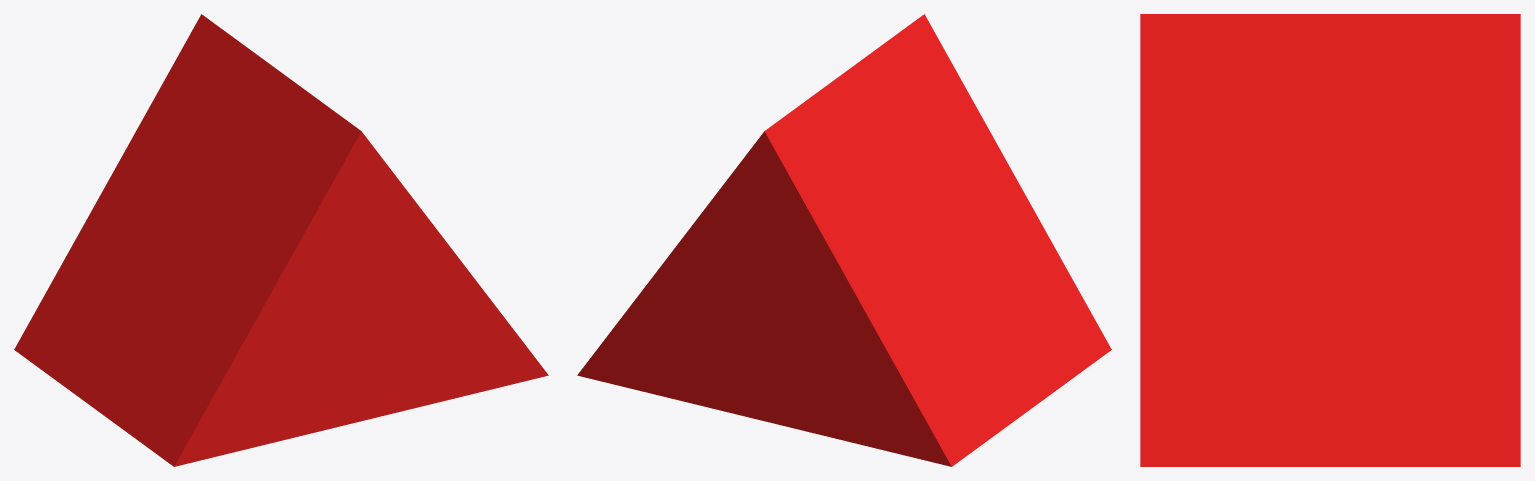
File: KidsBoxC.FBX
3 renders of one model, left to right at view 1: azimuth 30°, elevation 25°; view 2: azimuth 150°, elevation 25°; view 3: azimuth 270°, elevation 25°, orthographic. The views are drawn at different scales.
Parts seen in each view (by area): view 1: KidsBoxC; view 2: KidsBoxC; view 3: KidsBoxC.
Part boxes in pixels (x1,y1,x2,y2): KidsBoxC: (14, 14, 548, 466); KidsBoxC: (577, 14, 1111, 466); KidsBoxC: (1140, 14, 1520, 466).
Size of the model in its own units: 13.52 by 10 by 10.
